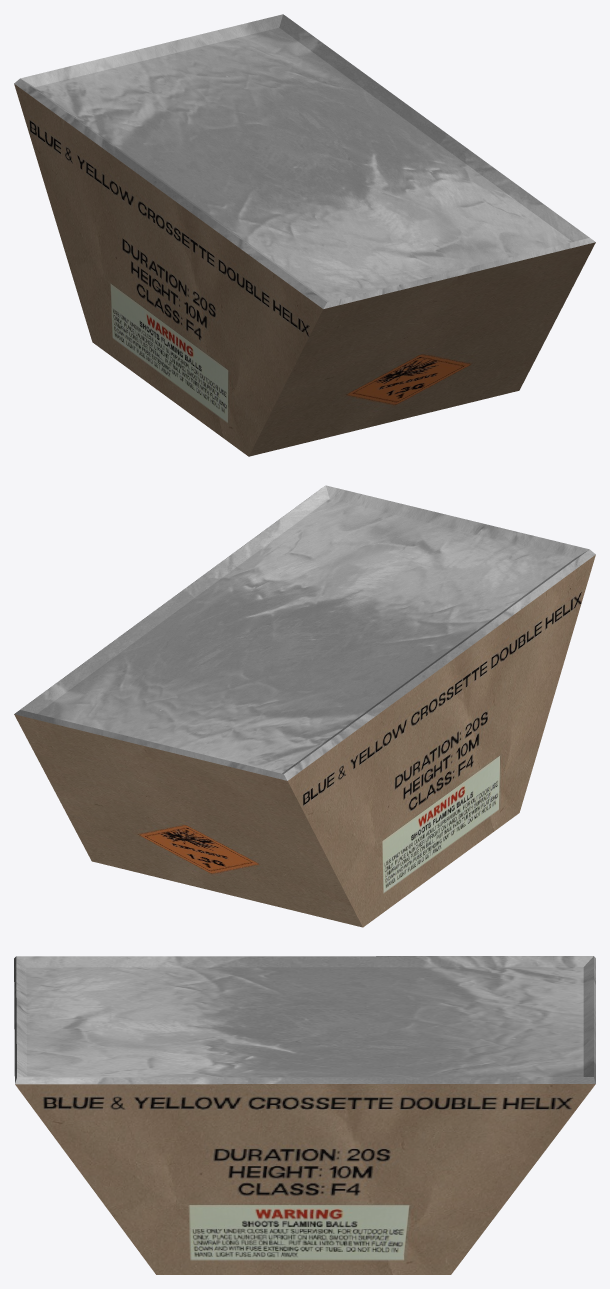
The model's file is Blue&YellowCrossetteHelix.fbx.
The picture shows the model from 3 angles, top to bottom: view 1: azimuth 30°, elevation 25°; view 2: azimuth 150°, elevation 25°; view 3: azimuth 270°, elevation 25°; orthographic projection. The views are drawn at different scales.
Parts seen in each view (by area): view 1: Cube; view 2: Cube; view 3: Cube.
Part boxes in pixels (x1,y1,x2,y2): Cube: (14,14,595,456); Cube: (14,485,595,927); Cube: (14,956,595,1274).
Bounding box in the file's own units: 20.24 × 14.66 × 39.48.
2 materials, 2 textured.
